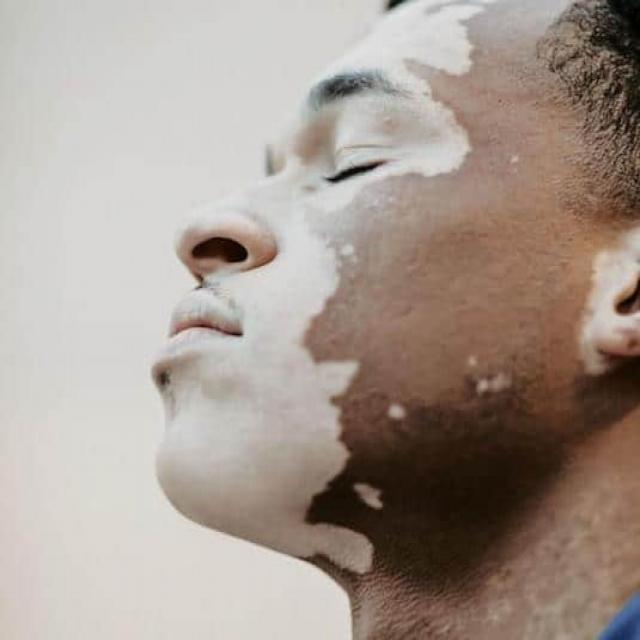vitiligo: (188, 4, 534, 603)
